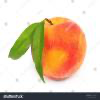Peach leaf: (8, 23, 39, 61), (32, 19, 47, 85)
